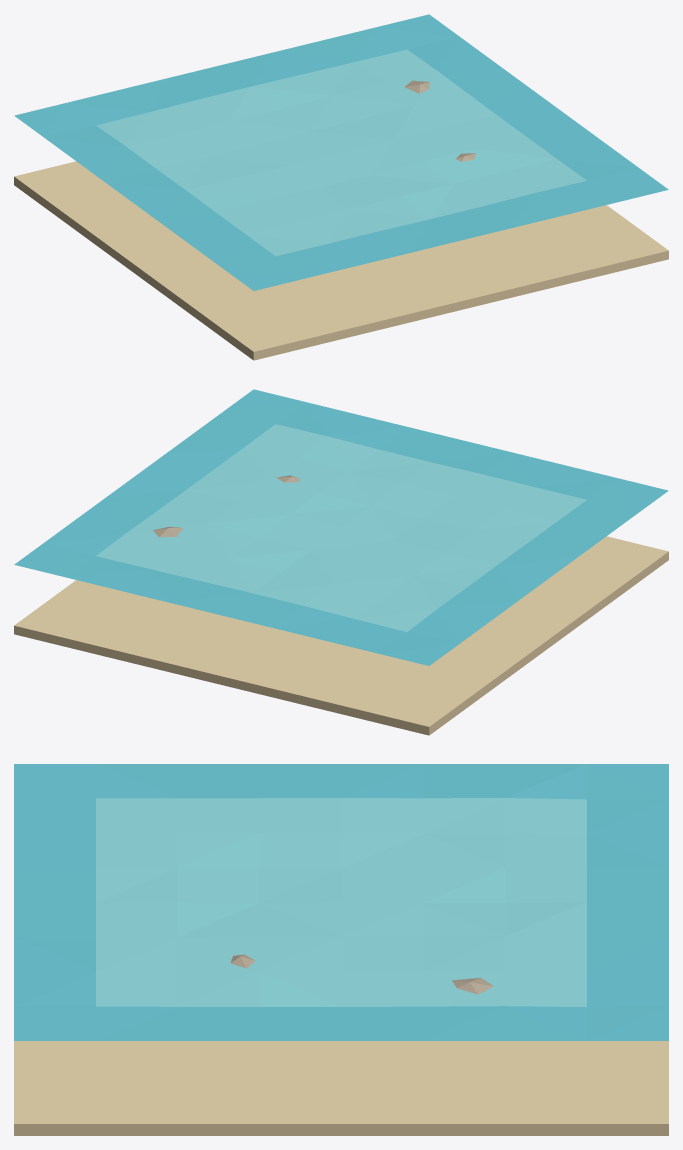
File: shallow_water_patch.glb
3 views of the same model, one above another, from view 1: azimuth 30°, elevation 25°; view 2: azimuth 150°, elevation 25°; view 3: azimuth 270°, elevation 25° (orthographic). The views are drawn at different scales.
Visible parts, largest first — view 1: part_water, shallow_water_patch; view 2: part_water, shallow_water_patch; view 3: part_water, shallow_water_patch.
Boxes of the visible parts, x1,y1,x2,y2 form: part_water: [14, 14, 668, 290]; shallow_water_patch: [14, 80, 668, 360]; part_water: [14, 389, 668, 665]; shallow_water_patch: [14, 475, 668, 735]; part_water: [14, 764, 668, 1040]; shallow_water_patch: [14, 954, 668, 1135].
Size of the model in its own units: 2 by 0.3349 by 2.
